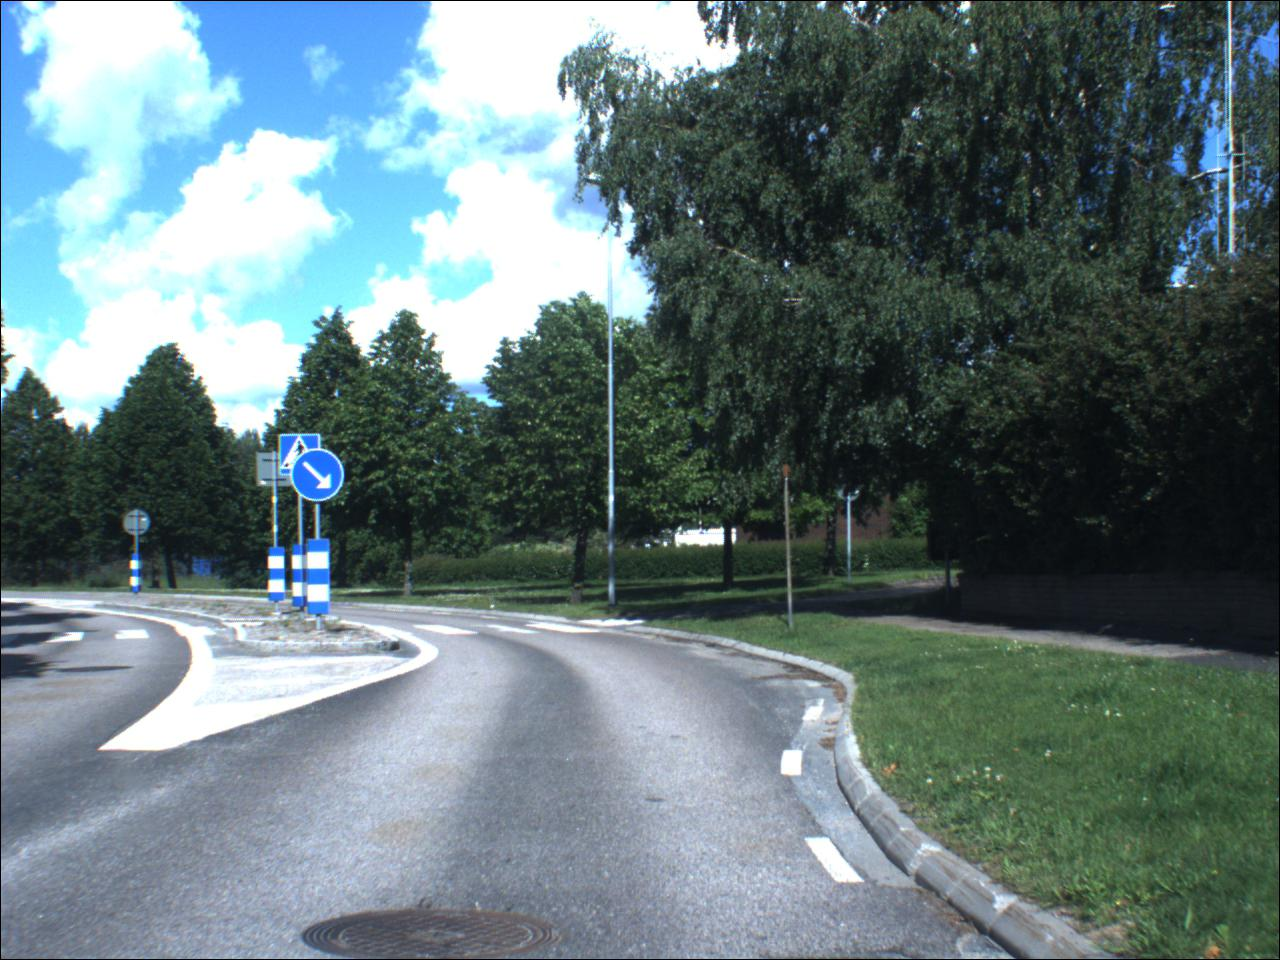PASS_RIGHT_SIDE: (293, 450, 346, 503)
PEDESTRIAN_CROSSING: (281, 436, 323, 478)
